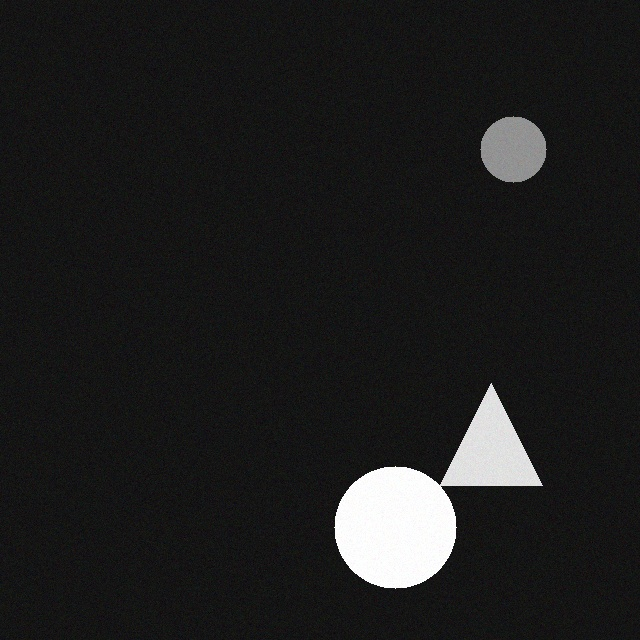circle: (347, 469, 469, 591), (493, 119, 559, 185)
triangle: (453, 386, 555, 488)
